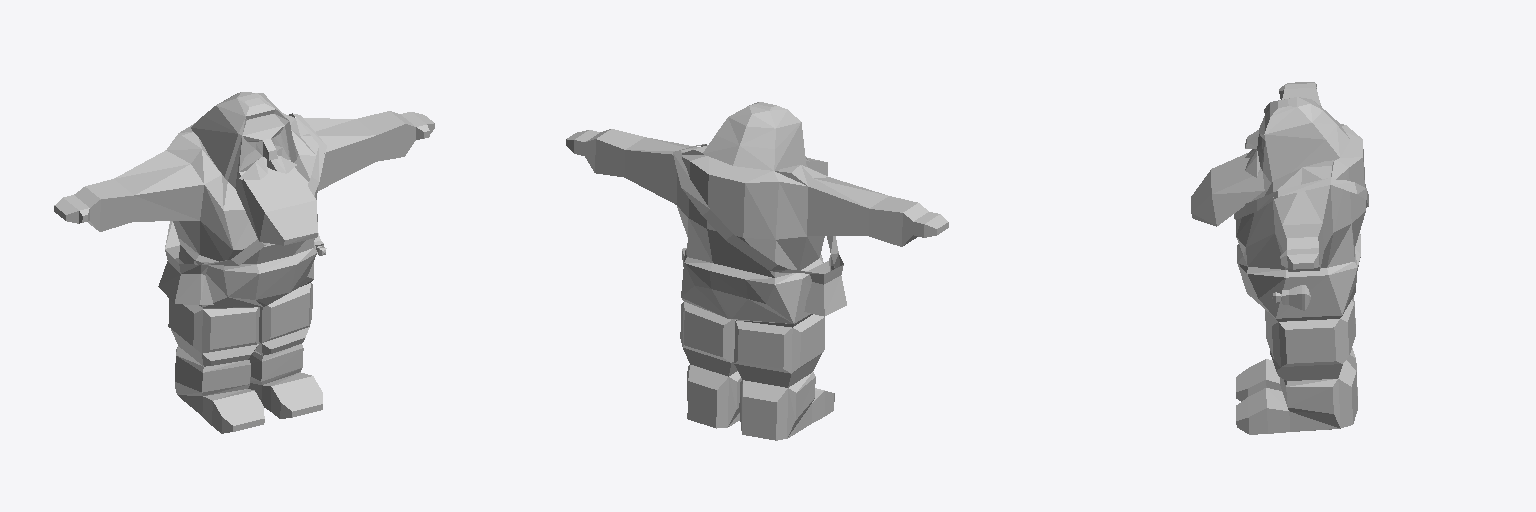
The model's file is Gnom.obj.
3 renders of one model, left to right at view 1: azimuth 30°, elevation 25°; view 2: azimuth 150°, elevation 25°; view 3: azimuth 270°, elevation 25°, orthographic.
Visible parts, largest first — view 1: Gnome; view 2: Gnome; view 3: Gnome, yad.
Part boxes in pixels (bbox=[...]): Gnome: bbox=[54, 92, 434, 433]; Gnome: bbox=[566, 102, 948, 440]; Gnome: bbox=[1191, 82, 1368, 434]; yad: bbox=[1272, 285, 1310, 310].
Bounding box in the file's own units: 6.86 × 5.45 × 2.84.